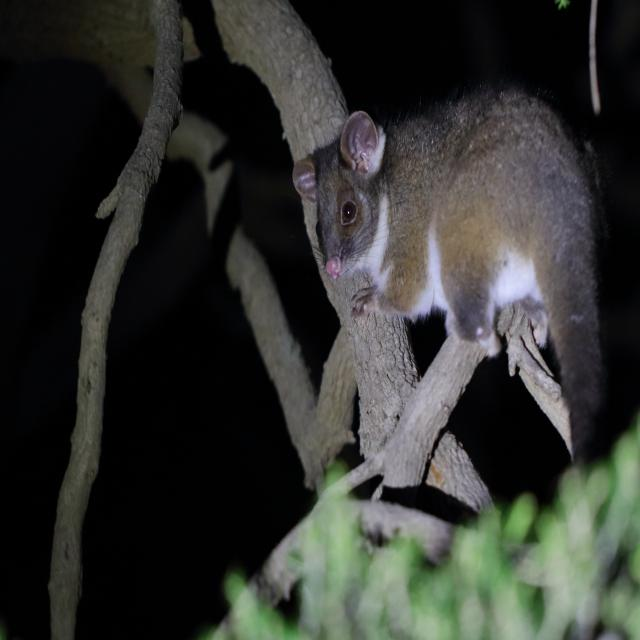Possum: (294, 86, 602, 436)
